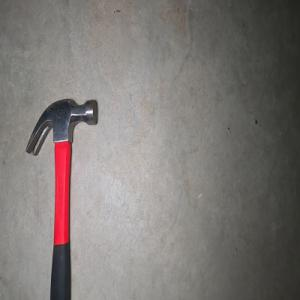Hammer: (24, 97, 98, 300)
